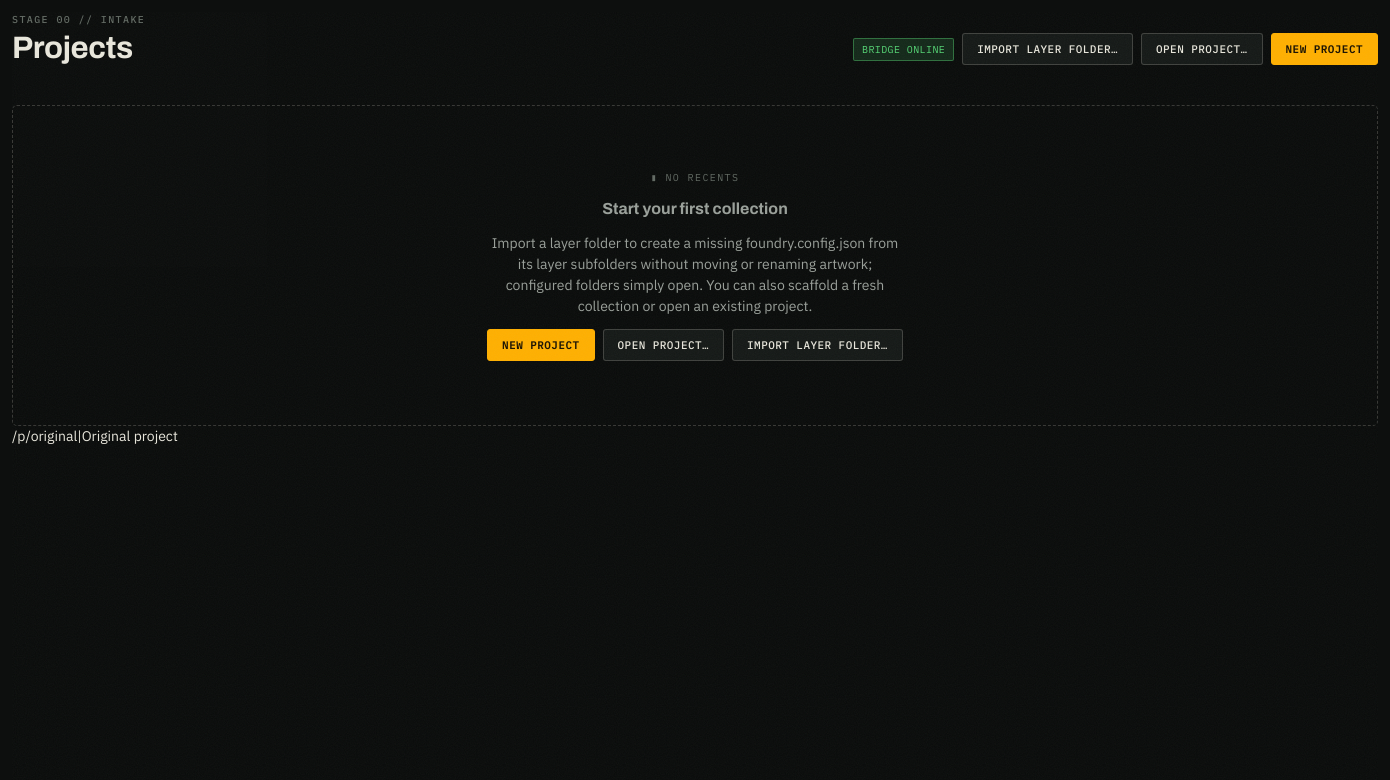
Test: ProjectsScreen — layer-folder import › loads an imported project, remembers it, and reports the imported layer count
Check: the text with test id "project-snapshot" reads "/p/original|Original project", box x1=12 y1=427 x2=77 y2=445
Click the button "Import layer folder…" next to "BRIDGE ONLINE". click: [1048, 49]
box: x1=962 y1=33 x2=1133 y2=65
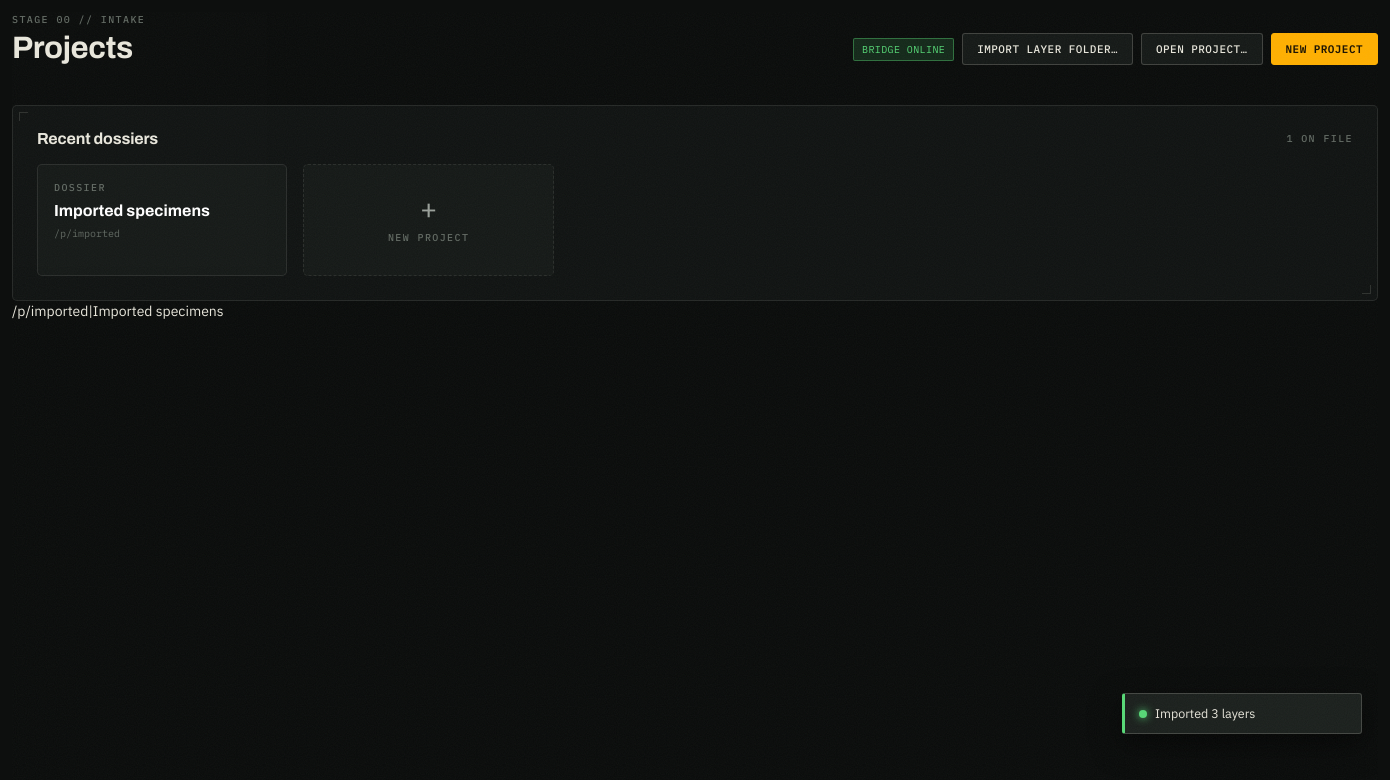
Check: the text "Imported 3 layers" is shown, box x1=1122 y1=693 x2=1362 y2=734
Check: the text with test id "project-snapshot" reads "/p/imported|Imported specimens", box x1=12 y1=302 x2=88 y2=320
